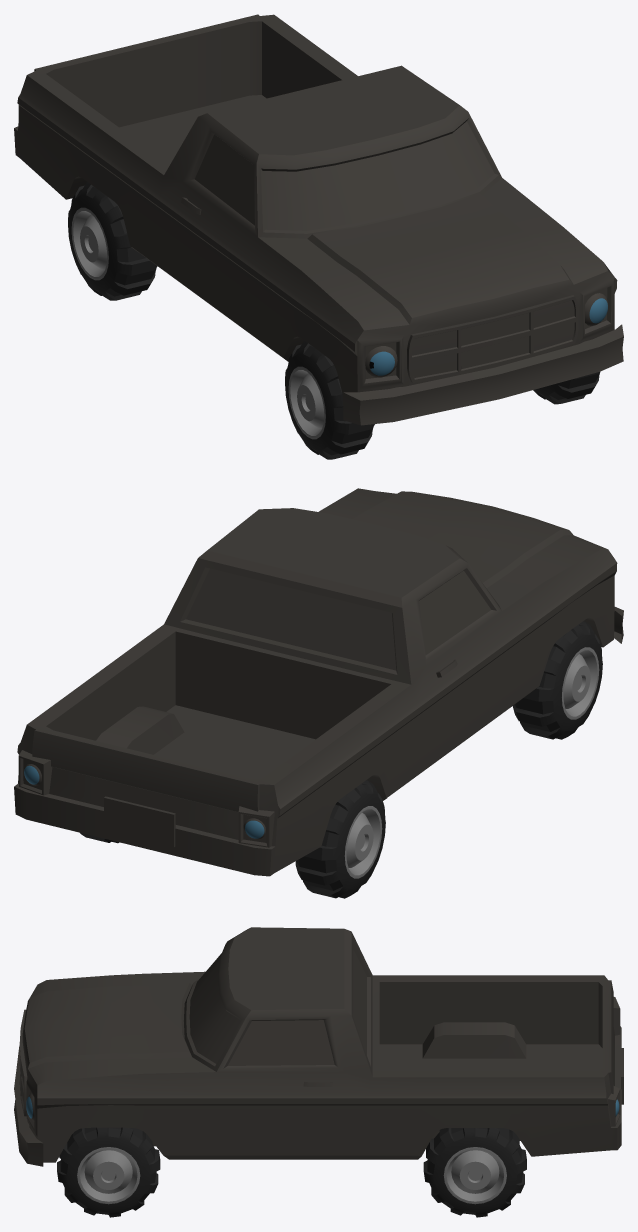
File: citypack-pickup-L2.glb
3 renders of one model, top to bottom at view 1: azimuth 30°, elevation 25°; view 2: azimuth 150°, elevation 25°; view 3: azimuth 270°, elevation 25°, orthographic. The views are drawn at different scales.
Parts seen in each view (by area): view 1: body, wheel-back-left, wheel-front-left, wheel-front-right; view 2: body, wheel-back-left, wheel-front-left; view 3: body, wheel-back-right, wheel-front-right.
Part boxes in pixels (x1=…): body: x1=14, y1=14, x2=623, y2=425; wheel-back-left: x1=68, y1=182, x2=157, y2=300; wheel-front-left: x1=285, y1=340, x2=374, y2=459; wheel-front-right: x1=533, y1=372, x2=600, y2=404; body: x1=14, y1=488, x2=623, y2=876; wheel-back-left: x1=295, y1=780, x2=385, y2=898; wheel-front-left: x1=512, y1=621, x2=602, y2=739; body: x1=14, y1=927, x2=623, y2=1166; wheel-back-right: x1=423, y1=1128, x2=526, y2=1217; wheel-front-right: x1=57, y1=1127, x2=160, y2=1217.
Size of the model in its own units: 2.31 by 1.85 by 5.18.
2 materials, 2 textured.
